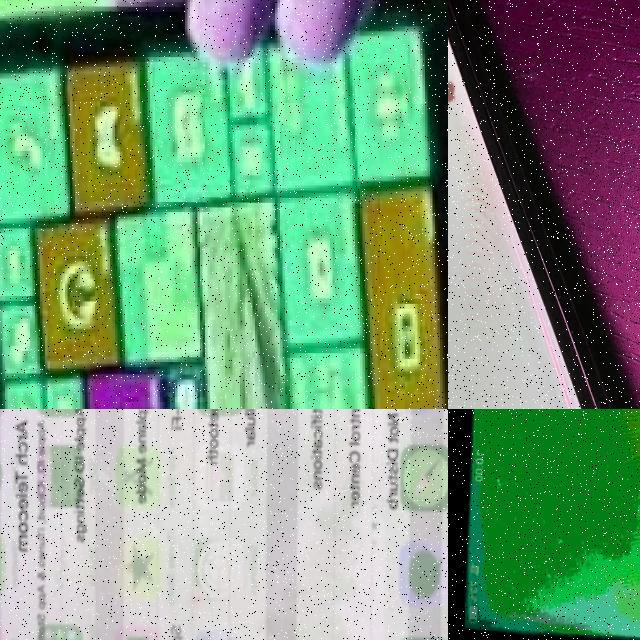dead pixel: (448, 65, 487, 116)
